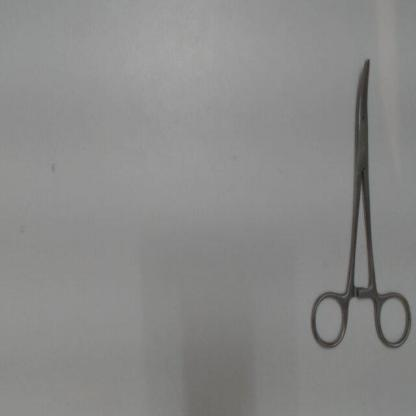Crile Artery Forceps: (304, 49, 414, 362)
